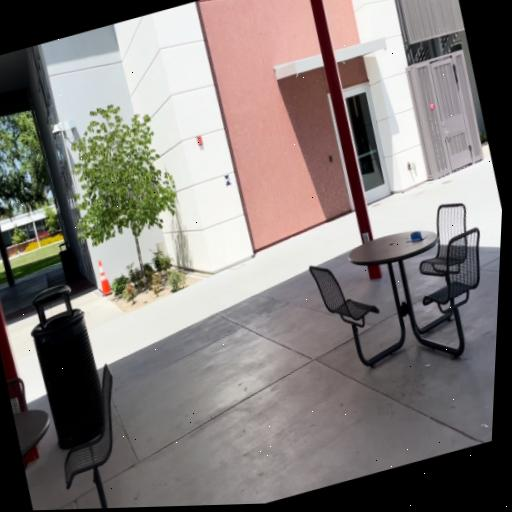target9: (223, 173, 231, 186)
